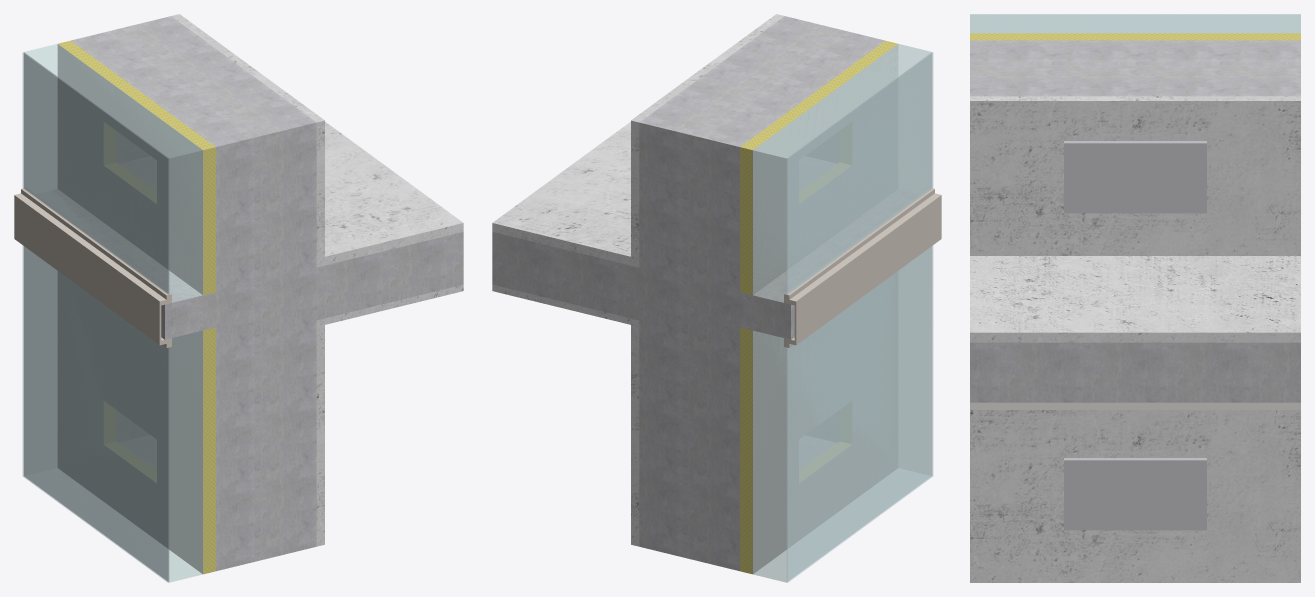
The model's file is passive-solar-wall.glb.
The picture shows the model from 3 angles, left to right: view 1: azimuth 30°, elevation 25°; view 2: azimuth 150°, elevation 25°; view 3: azimuth 270°, elevation 25°; orthographic projection. The views are drawn at different scales.
Parts seen in each view (by area): view 1: 空气间层, 外围护墙, 外侧玻璃, 薄钢板, 上侧内墙抹灰, 矿棉保温层, 下侧内墙抹灰; view 2: 空气间层, 外围护墙, 外侧玻璃, 薄钢板, 上侧内墙抹灰, 矿棉保温层, 下侧内墙抹灰; view 3: 上侧内墙抹灰, 下侧内墙抹灰, 外围护墙, 下部出风口, 上部进风口, 空气间层, 外侧玻璃, 矿棉保温层.
Part boxes in pixels (x1,y1,x2,y2): 空气间层: (24,44,202,582); 外围护墙: (51,16,463,571); 外侧玻璃: (14,52,171,582); 薄钢板: (57,44,203,573); 上侧内墙抹灰: (171,14,463,267); 矿棉保温层: (58,40,215,574); 下侧内墙抹灰: (316,284,463,546); 空气间层: (753,44,931,582); 外围护墙: (492,16,919,571); 外侧玻璃: (784,52,941,582); 薄钢板: (752,44,898,573); 上侧内墙抹灰: (492,14,784,267); 矿棉保温层: (740,40,897,574); 下侧内墙抹灰: (492,284,639,546); 上侧内墙抹灰: (970,96,1300,342); 下侧内墙抹灰: (970,402,1300,582); 外围护墙: (970,40,1300,402); 下部出风口: (1064,458,1206,530); 上部进风口: (1064,141,1206,213); 空气间层: (970,14,1300,33); 外侧玻璃: (970,14,1300,32); 矿棉保温层: (970,33,1300,40).
Size of the model in its own units: 0.7235 by 0.965 by 0.6.
13 materials, 4 textured.
